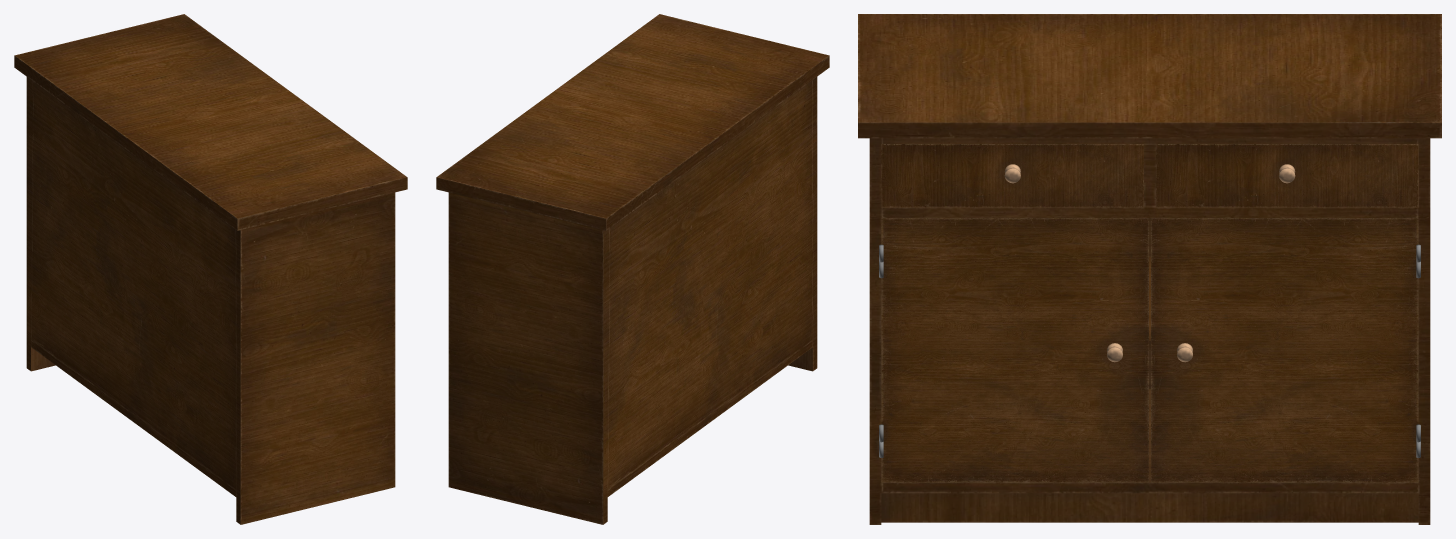
File: drawers.glb
3 views of the same model, side by side, from view 1: azimuth 30°, elevation 25°; view 2: azimuth 150°, elevation 25°; view 3: azimuth 270°, elevation 25° (orthographic). The views are drawn at different scales.
Parts seen in each view (by area): view 1: Komod; view 2: Komod; view 3: Komod, Dvierca_R, Dvierca_L, Shkafchik_R, Shkafchik_L.
Part boxes in pixels (<box>): Komod: <box>14,14,407,524</box>; Komod: <box>436,14,829,524</box>; Komod: <box>858,14,1441,524</box>; Dvierca_R: <box>1150,218,1420,482</box>; Dvierca_L: <box>879,218,1149,482</box>; Shkafchik_R: <box>1156,144,1418,207</box>; Shkafchik_L: <box>881,144,1143,207</box>.
Bounding box in the file's own units: 2.2 × 3.85 × 5.
6 materials, 6 textured.
